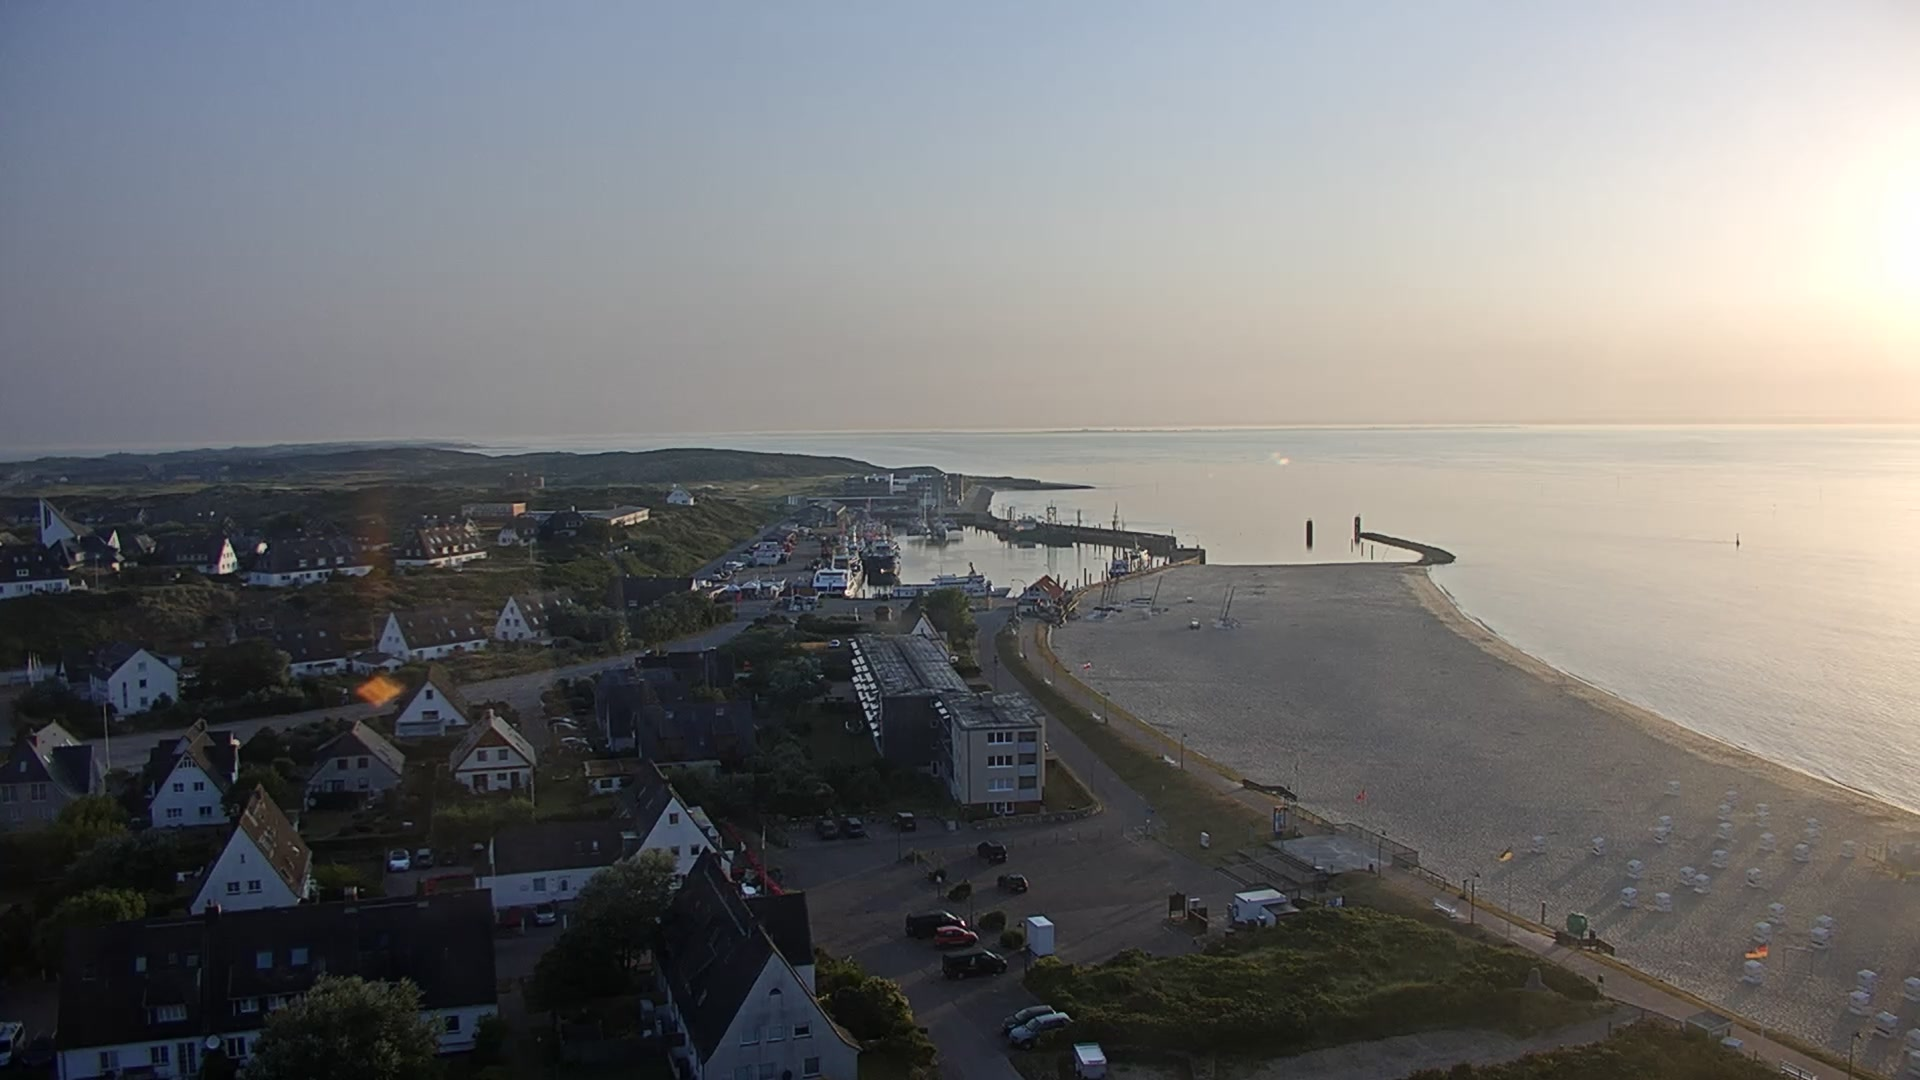land: (1007, 1010, 1073, 1048), (942, 947, 1007, 978), (905, 909, 965, 939), (1000, 1002, 1055, 1033), (22, 1026, 57, 1065), (932, 920, 978, 948), (1, 1018, 25, 1065), (976, 837, 1009, 864), (997, 872, 1029, 894), (385, 847, 411, 872), (531, 902, 558, 926), (889, 808, 916, 831), (814, 819, 840, 839), (843, 816, 866, 837), (413, 847, 434, 869), (436, 844, 458, 866), (547, 715, 576, 725), (551, 723, 579, 731)
sea: (884, 560, 1011, 599), (808, 520, 862, 596), (860, 524, 901, 578), (1106, 543, 1153, 576), (1212, 583, 1242, 629), (1142, 572, 1172, 618), (1093, 567, 1124, 613), (1084, 582, 1112, 622)
